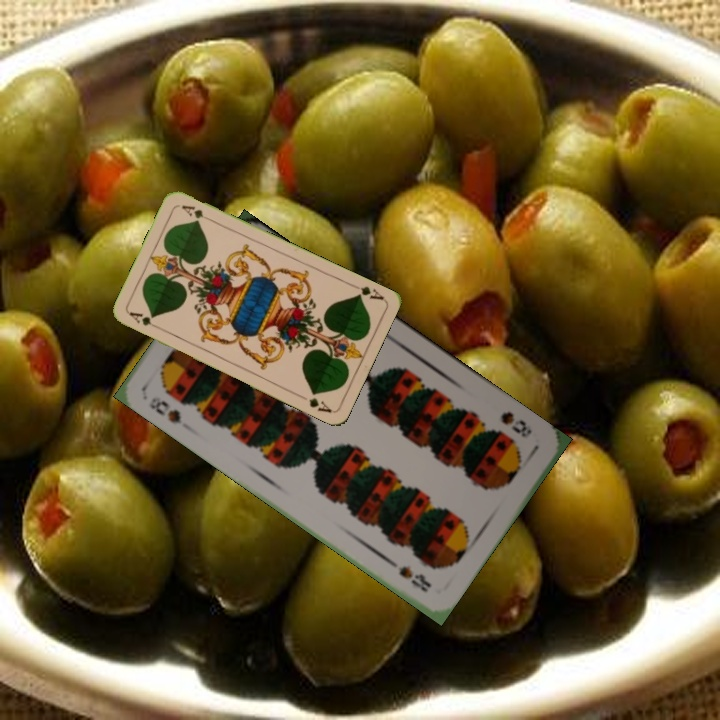GA: (125, 308, 164, 332), (347, 280, 386, 303)
S8: (144, 392, 185, 426), (496, 407, 535, 441)
